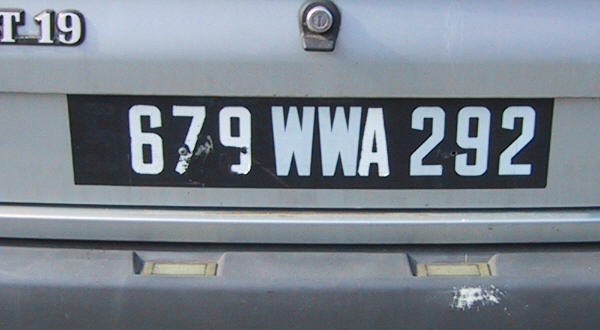license_plate: (65, 93, 555, 191)
